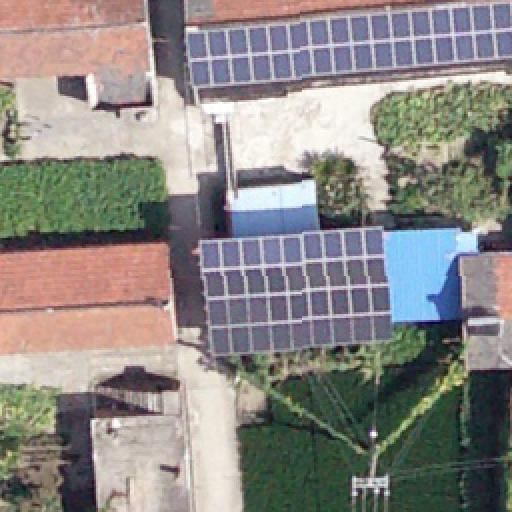solar-panel: (184, 2, 512, 90), (197, 226, 395, 354)
